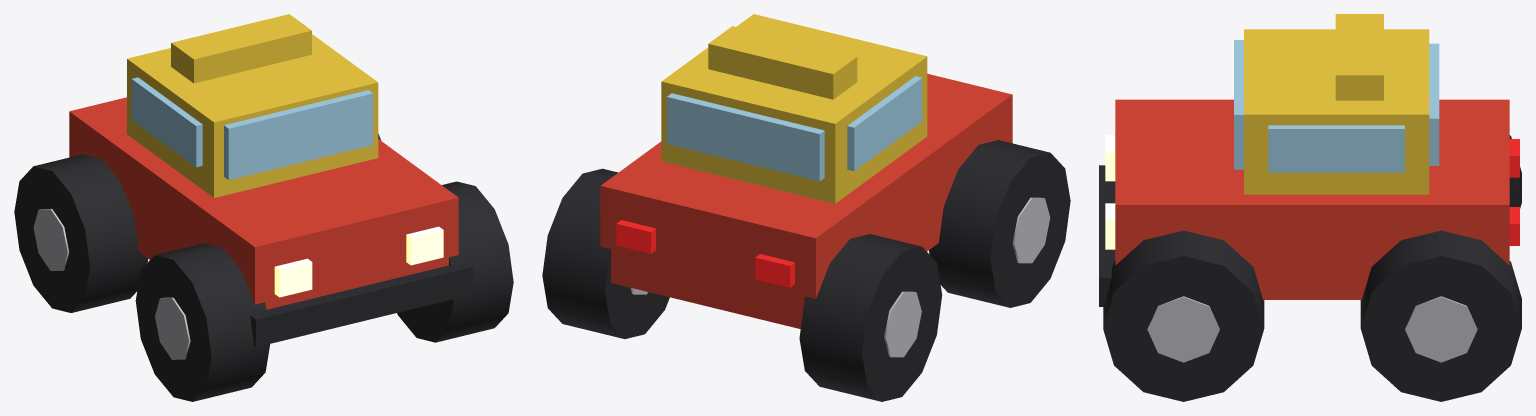
File: hero-livery.glb
3 renders of one model, left to right at view 1: azimuth 30°, elevation 25°; view 2: azimuth 150°, elevation 25°; view 3: azimuth 270°, elevation 25°, orthographic. The views are drawn at different scales.
Size of the model in its own units: 1.9 by 1.56 by 2.14.
